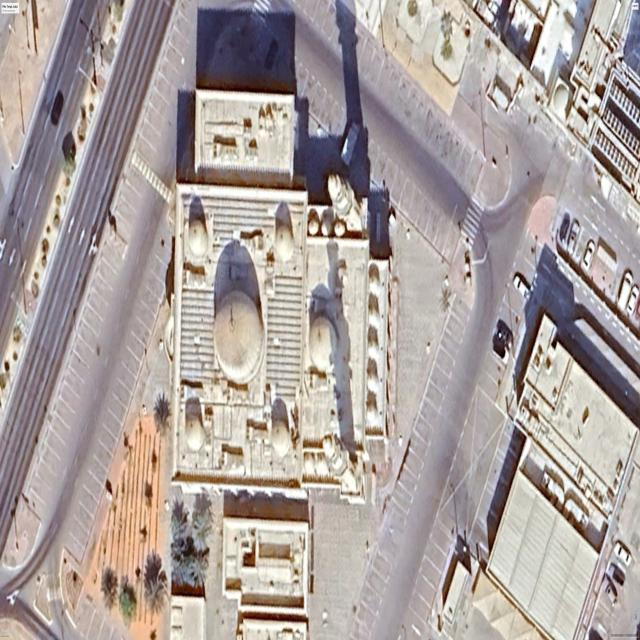mosque: (167, 89, 391, 503)
